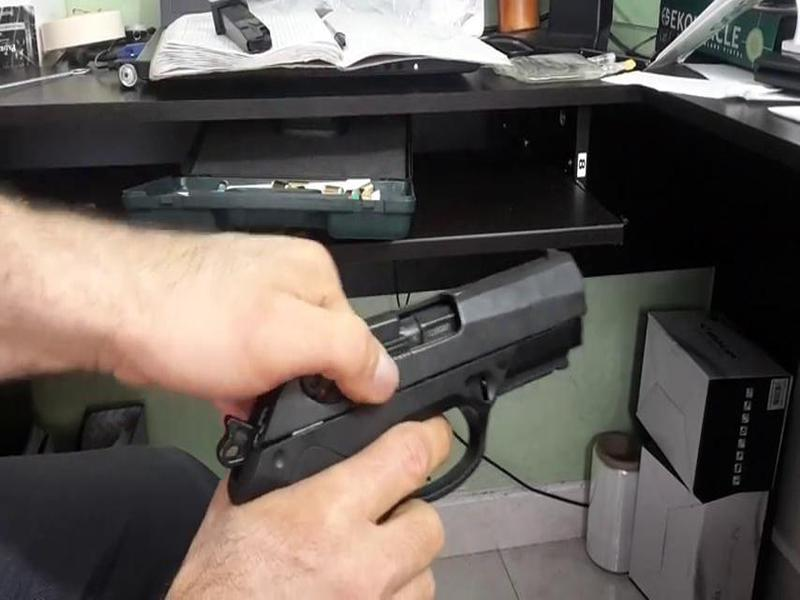Pistola: (190, 234, 595, 534)
